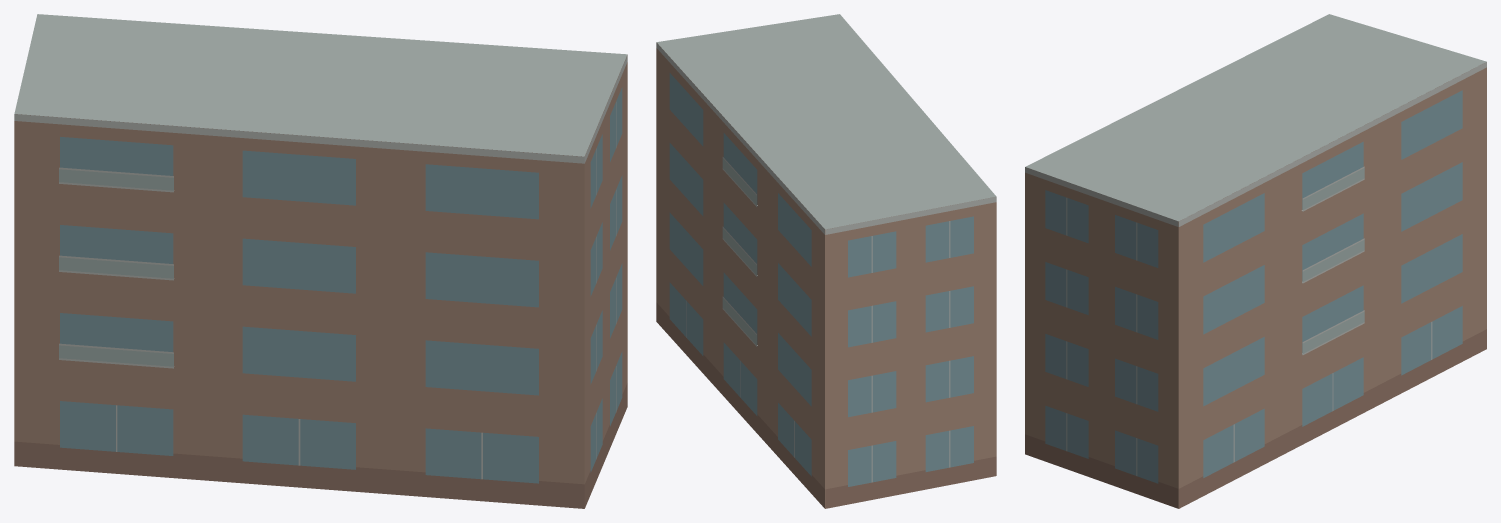
Rendered from survey-upis-33015423.glb.
The picture shows the model from 3 angles, left to right: view 1: azimuth 30°, elevation 25°; view 2: azimuth 150°, elevation 25°; view 3: azimuth 270°, elevation 25°; orthographic projection. The views are drawn at different scales.
Parts seen in each view (by area): view 1: survey-upis-33015423.tmp; view 2: survey-upis-33015423.tmp; view 3: survey-upis-33015423.tmp.
Boxes of the visible parts, <box> form: survey-upis-33015423.tmp: <box>14,14,627,508</box>; survey-upis-33015423.tmp: <box>656,14,996,508</box>; survey-upis-33015423.tmp: <box>1025,14,1486,508</box>.
Bounding box in the file's own units: 18.89 × 12.2 × 17.77.
